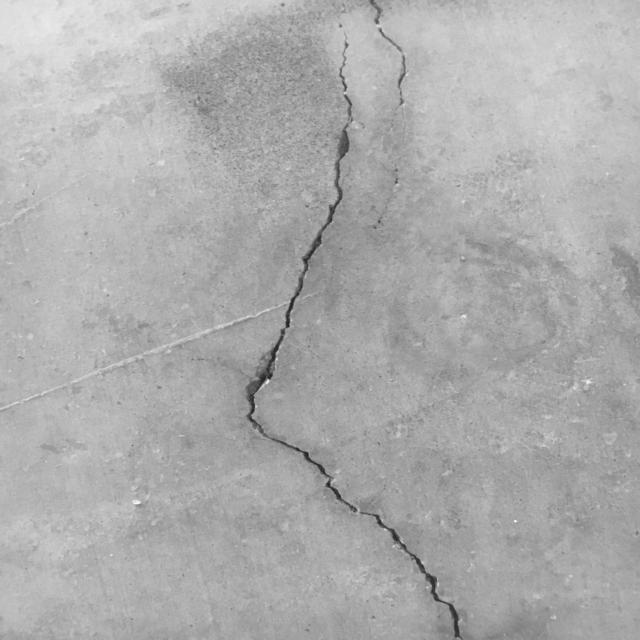SurfaceCrack: (223, 0, 497, 639)
